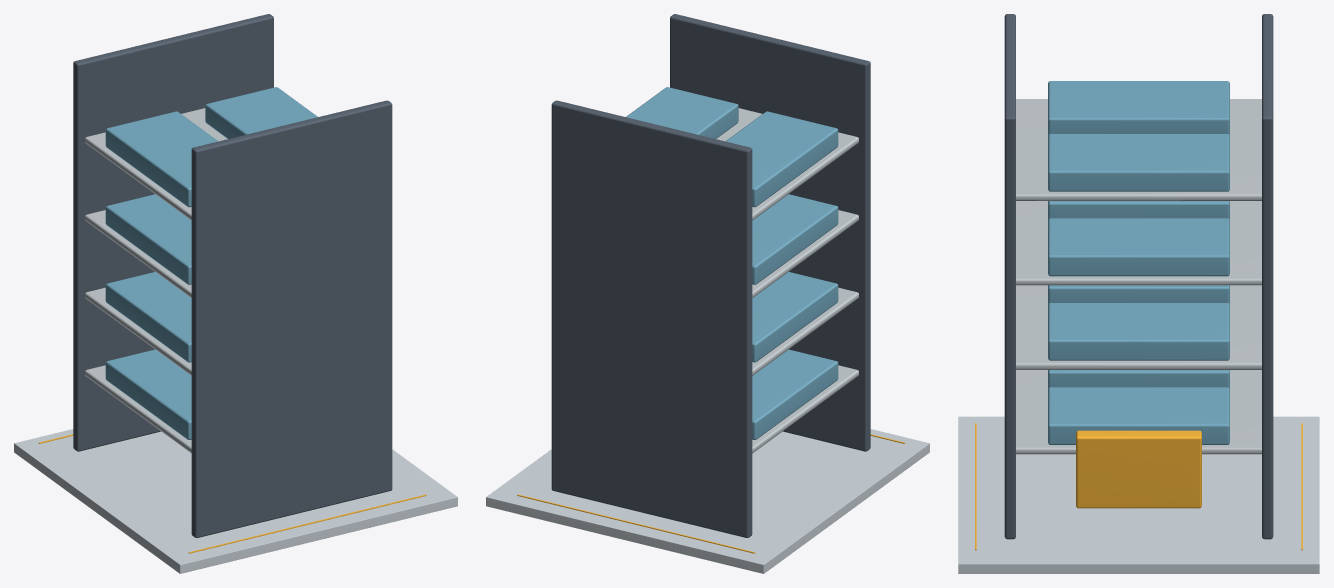
The picture shows the model from 3 angles, left to right: view 1: azimuth 30°, elevation 25°; view 2: azimuth 150°, elevation 25°; view 3: azimuth 270°, elevation 25°; orthographic projection. The views are drawn at different scales.
Parts seen in each view (by area): view 1: Storage frame side, Storage frame side.001, Ground plane, Storage container.006, Storage container.002, Storage container.004, Storage container, Storage container.007, Storage tray.003, Storage tray.002, Storage tray, Storage tray.001; view 2: Storage frame side.001, Storage frame side, Ground plane, Storage container.006, Storage container.002, Storage container.004, Storage container, Storage container.007, Storage tray.003, Storage tray.002, Storage tray, Storage tray.001; view 3: Ground plane, Storage container.005, Storage container.003, Storage container.007, Pick port, Storage container.006, Storage container.001, Storage tray.003, Storage tray.002, Storage tray.001, Storage frame side, Storage frame side.001 (+4 smaller).
Part boxes in pixels (x1,y1,x2,y2): Storage frame side: (191,100,392,537); Storage frame side.001: (73,14,273,451); Ground plane: (14,429,457,573); Storage container.006: (105,111,218,207); Storage container.002: (105,272,191,362); Storage container.004: (105,194,191,284); Storage container: (105,349,191,439); Storage container.007: (205,87,317,138); Storage tray.003: (85,108,227,220); Storage tray.002: (85,210,191,297); Storage tray: (85,365,191,453); Storage tray.001: (85,287,191,375); Storage frame side.001: (551,100,752,537); Storage frame side: (670,14,870,451); Ground plane: (486,429,929,573); Storage container.006: (725,111,838,207); Storage container.002: (752,272,838,362); Storage container.004: (752,194,838,284); Storage container: (752,349,838,439); Storage container.007: (626,87,738,138); Storage tray.003: (716,108,858,220); Storage tray.002: (752,210,858,297); Storage tray: (752,365,858,453); Storage tray.001: (752,287,858,375); Ground plane: (958,416,1319,573); Storage container.005: (1048,218,1229,276); Storage container.003: (1048,302,1229,360); Storage container.007: (1048,134,1229,191); Pick port: (1076,430,1201,508); Storage container.006: (1048,81,1229,135); Storage container.001: (1048,387,1229,444); Storage tray.003: (1016,99,1261,200); Storage tray.002: (1016,201,1261,285); Storage tray.001: (1016,285,1261,369); Storage frame side: (1004,14,1015,539); Storage frame side.001: (1262,14,1273,539).
Size of the model in its own units: 3.75 by 5.13 by 3.88.
